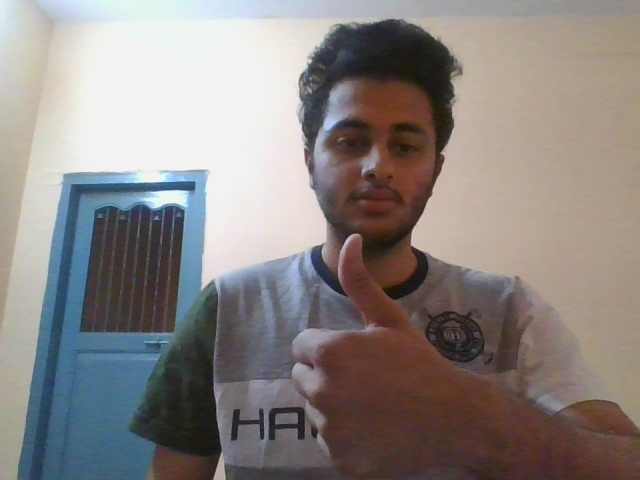Thumbsup: (290, 231, 475, 480)
